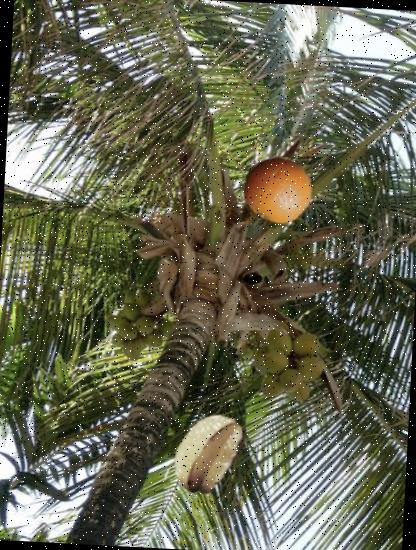Carambula: (162, 407, 252, 497)
Orange: (242, 154, 314, 226)
